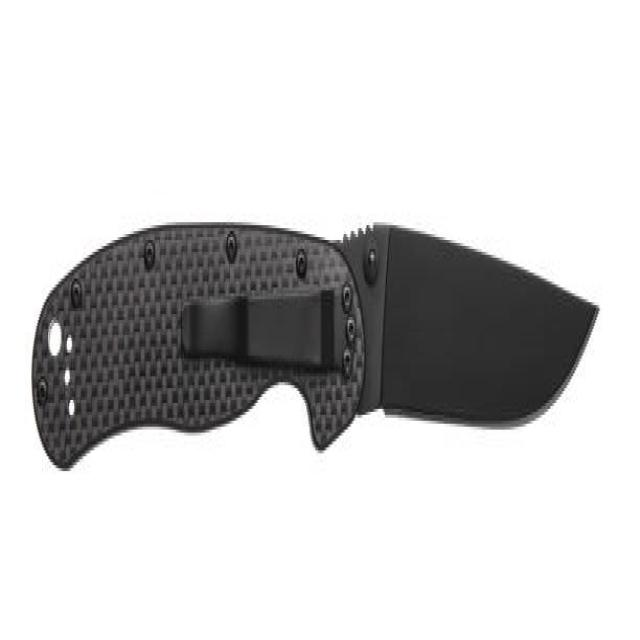knife: (24, 164, 607, 522)
